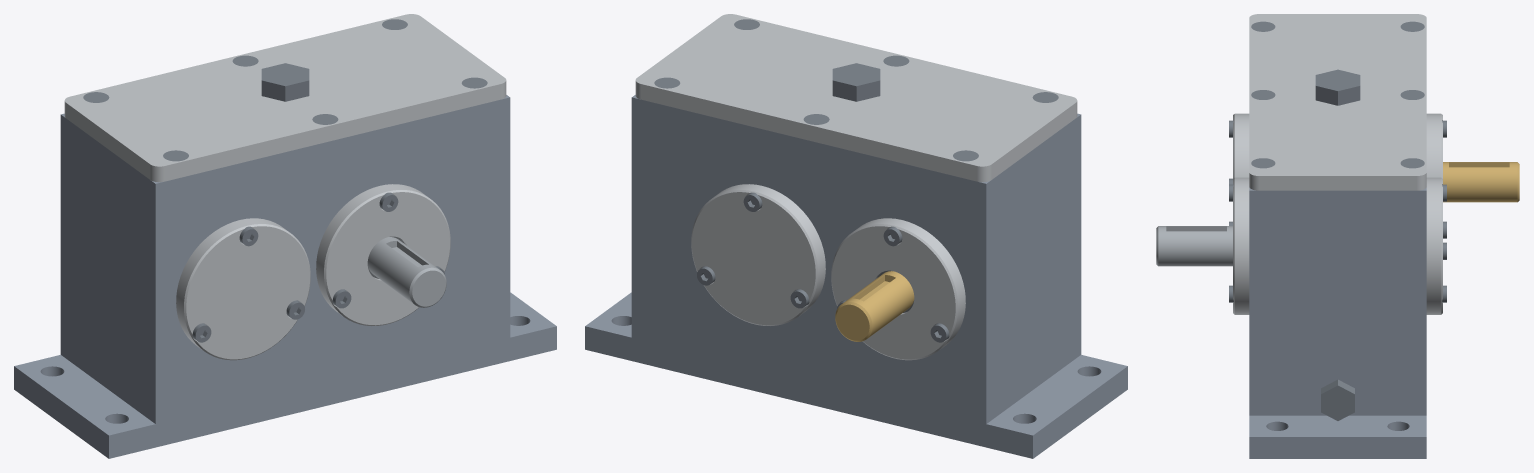
The model's file is step_29.glb.
3 renders of one model, left to right at view 1: azimuth 30°, elevation 25°; view 2: azimuth 150°, elevation 25°; view 3: azimuth 270°, elevation 25°, orthographic. The views are drawn at different scales.
Parts seen in each view (by area): view 1: part__gearbox housing, part__cover, part__blind cap (input), part__through cap (output), part__output shaft, part__filler plug M16; view 2: part__gearbox housing, part__cover, part__blind cap (output), part__through cap (input), part__input pinion shaft, part__filler plug M16; view 3: part__gearbox housing, part__cover, part__output shaft, part__input pinion shaft, part__blind cap (output), part__through cap (output), part__filler plug M16, part__drain plug M12, part__through cap (input), part__blind cap (input).
Part boxes in pixels (x1=…): part__gearbox housing: x1=14, y1=95, x2=556, y2=458; part__cover: x1=64, y1=14, x2=506, y2=182; part__blind cap (input): x1=176, y1=218, x2=310, y2=360; part__through cap (output): x1=316, y1=184, x2=450, y2=325; part__output shaft: x1=367, y1=237, x2=446, y2=307; part__filler plug M16: x1=261, y1=63, x2=309, y2=101; part__gearbox housing: x1=585, y1=95, x2=1127, y2=458; part__cover: x1=635, y1=14, x2=1077, y2=182; part__blind cap (output): x1=691, y1=184, x2=825, y2=325; part__through cap (input): x1=831, y1=218, x2=965, y2=360; part__input pinion shaft: x1=835, y1=271, x2=914, y2=341; part__filler plug M16: x1=832, y1=63, x2=880, y2=101; part__gearbox housing: x1=1249, y1=187, x2=1426, y2=458; part__cover: x1=1249, y1=14, x2=1426, y2=190; part__output shaft: x1=1156, y1=226, x2=1232, y2=266; part__input pinion shaft: x1=1443, y1=162, x2=1519, y2=202; part__blind cap (output): x1=1426, y1=177, x2=1442, y2=314; part__through cap (output): x1=1233, y1=177, x2=1249, y2=314; part__filler plug M16: x1=1315, y1=69, x2=1360, y2=105; part__drain plug M12: x1=1321, y1=379, x2=1354, y2=420; part__through cap (input): x1=1426, y1=113, x2=1442, y2=178; part__blind cap (input): x1=1233, y1=113, x2=1249, y2=178.
Bounding box in the file's own units: 240 × 151 × 180.
